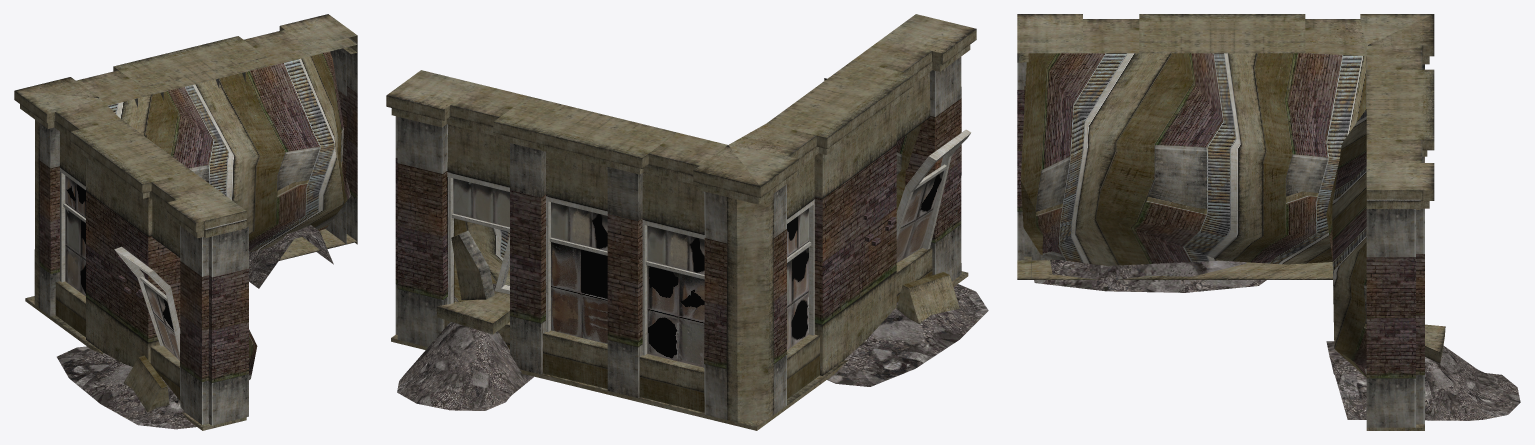
File: Corner_Building_Part_07_Base.fbx
3 views of the same model, side by side, from view 1: azimuth 30°, elevation 25°; view 2: azimuth 150°, elevation 25°; view 3: azimuth 270°, elevation 25° (orthographic). The views are drawn at different scales.
Parts seen in each view (by area): view 1: Corner_Building_Part_07_Base; view 2: Corner_Building_Part_07_Base; view 3: Corner_Building_Part_07_Base.
Part boxes in pixels (x1,y1,x2,y2): Corner_Building_Part_07_Base: [14, 14, 357, 430]; Corner_Building_Part_07_Base: [386, 14, 988, 430]; Corner_Building_Part_07_Base: [1017, 14, 1520, 430].
Size of the model in its own units: 808 by 469 by 864.
